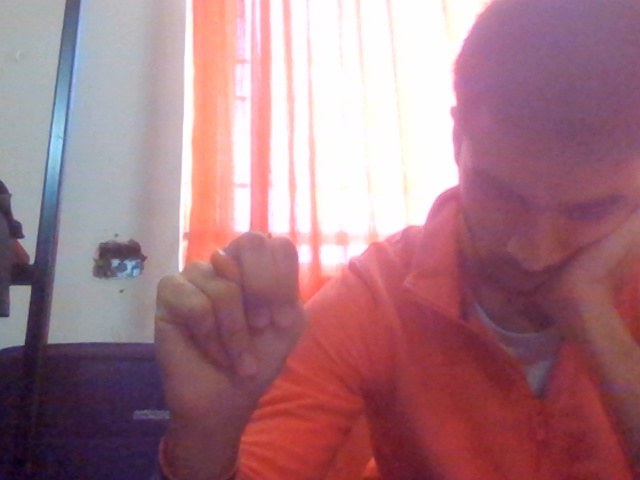N: (127, 206, 339, 467)
